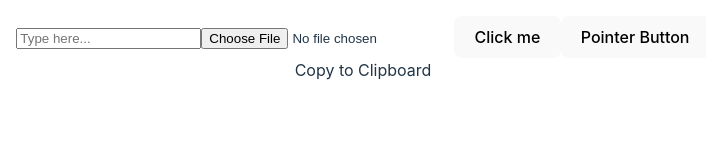
Test: OptionsComponent › copies text to clipboard and displays it
The image size is (706, 160).
Note: simulate clipboard copy action
Step 1. Click the text with test id "clipboard-target" → (363, 70), box [295, 60, 431, 80]
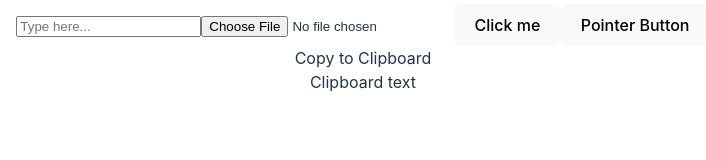
Check: the text "Clipboard text" is shown, box [310, 72, 416, 92]
